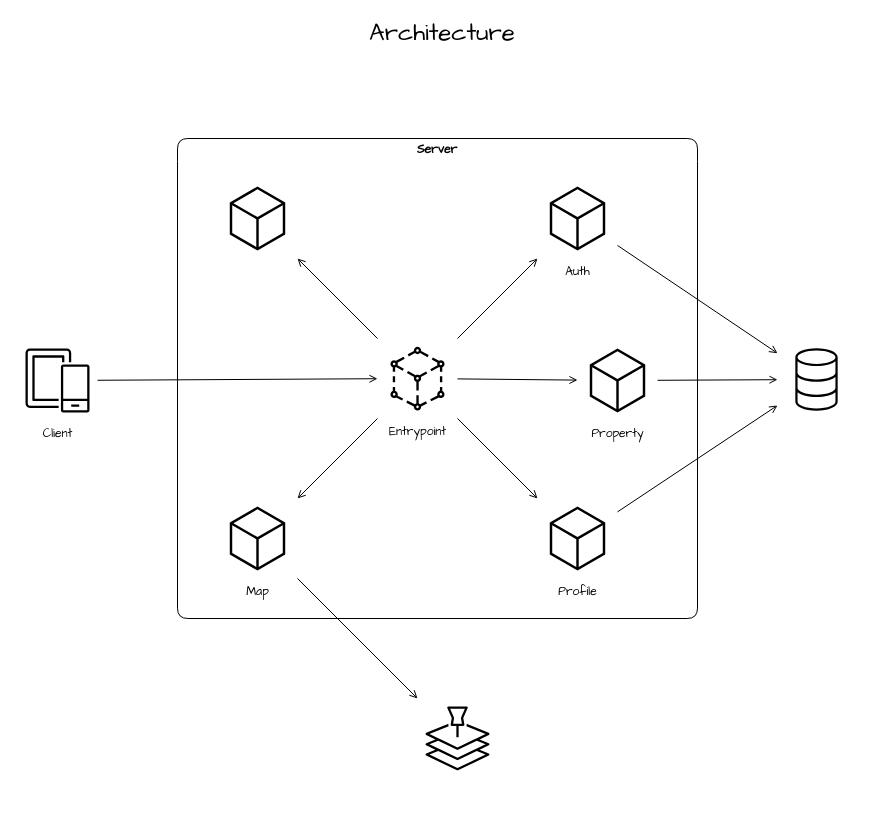
Some shapes in this 873 by 816 pixel diagram are drawn without their labels. The shapes that lost their labels are listed below. From the top down, each one's centre as x and y in pixels, then its label:
At point 257,218: "Router".
At point 816,379: "PostgreSQL".
At point 457,738: "Open Street Map".
